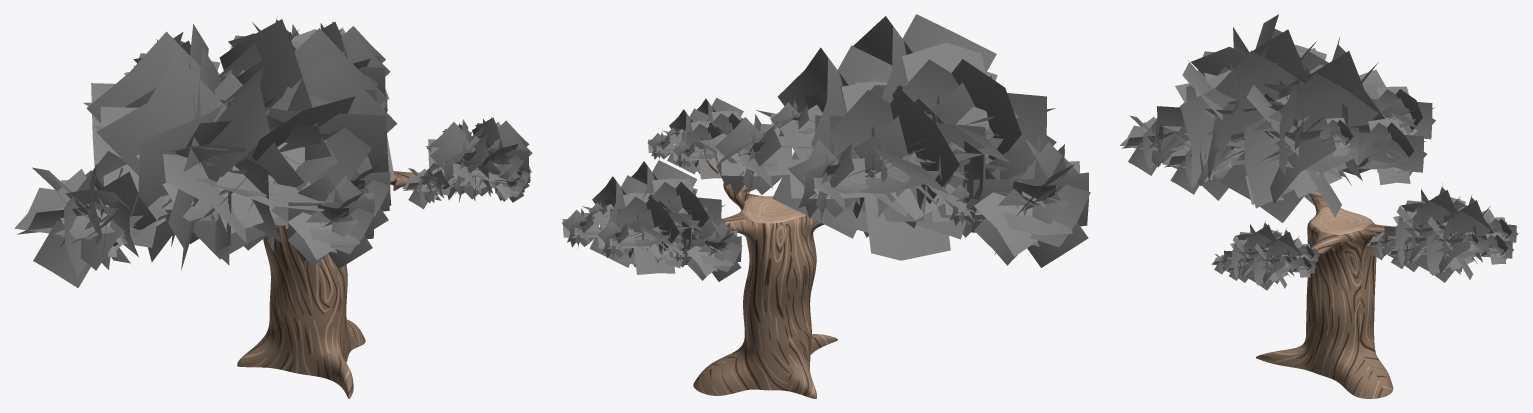
Rendered from Big tree.fbx.
3 views of the same model, side by side, from view 1: azimuth 30°, elevation 25°; view 2: azimuth 150°, elevation 25°; view 3: azimuth 270°, elevation 25° (orthographic). The views are drawn at different scales.
Parts seen in each view (by area): view 1: polySurface83, polySurface757; view 2: polySurface83, polySurface757; view 3: polySurface83, polySurface757.
Part boxes in pixels (box(x1,y1,x2,y2)): polySurface83: box(14, 16, 532, 287); polySurface757: box(237, 171, 415, 398); polySurface83: box(561, 14, 1090, 281); polySurface757: box(693, 159, 837, 398); polySurface83: box(1120, 14, 1518, 290); polySurface757: box(1256, 189, 1394, 398).
Size of the model in its own units: 44.41 by 33.25 by 40.95.
2 materials, 1 textured.
